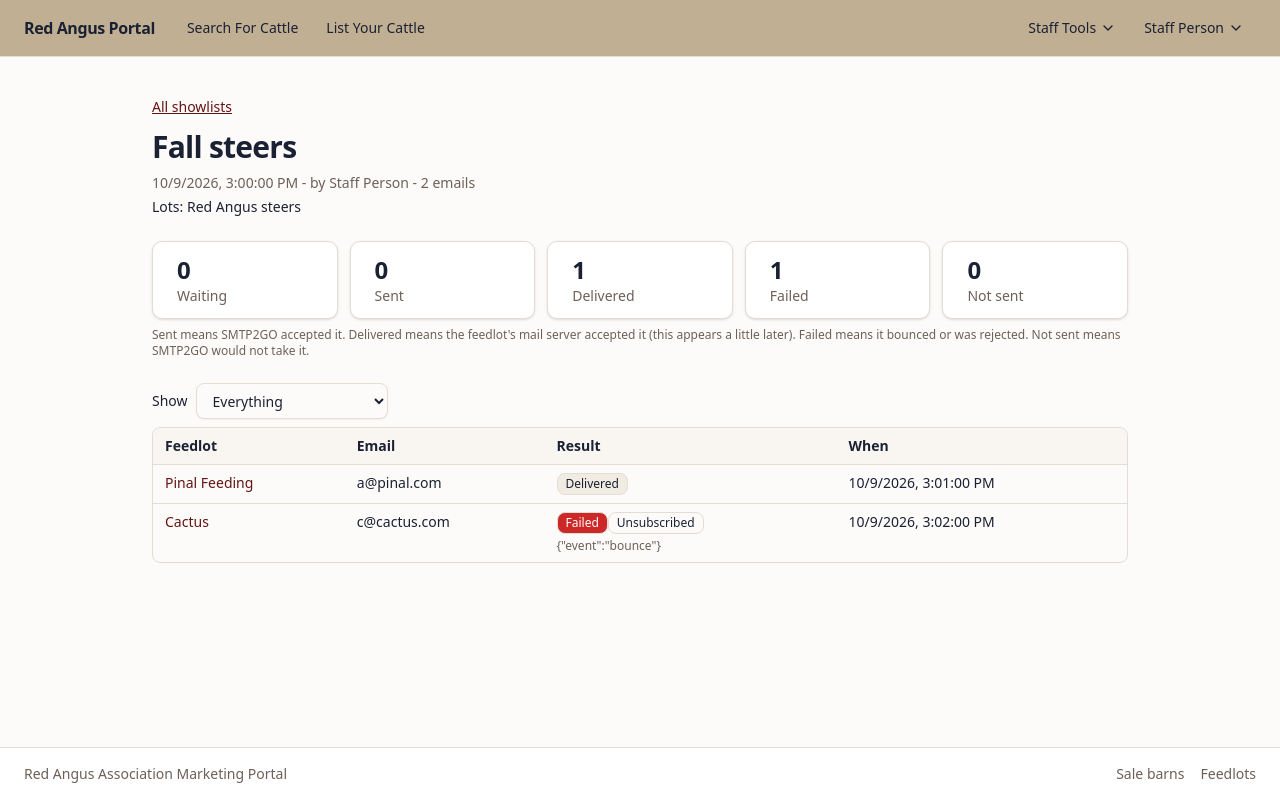
Scenario: showlist history and results › shows each email with its result, and can filter
Expected: the text "a@pinal.com" is shown, [345,464,544,504]
Expected: the text "c@cactus.com" is shown, [345,504,544,562]
Select "Failed" in the dropdown labelled "Show": point(292, 401) [196,383,388,419]
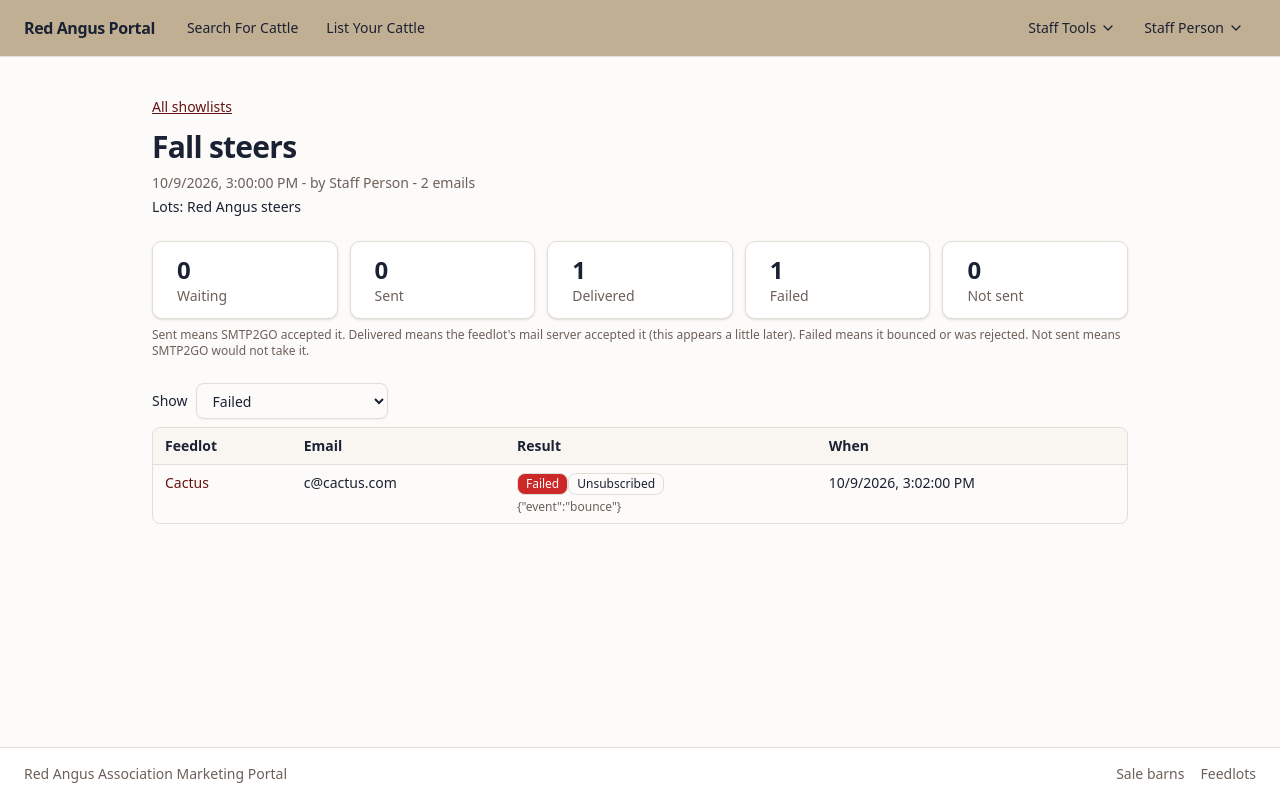
Expected: the text "c@cactus.com" is shown, [292,464,505,523]
Result: the text "a@pinal.com" is gone
